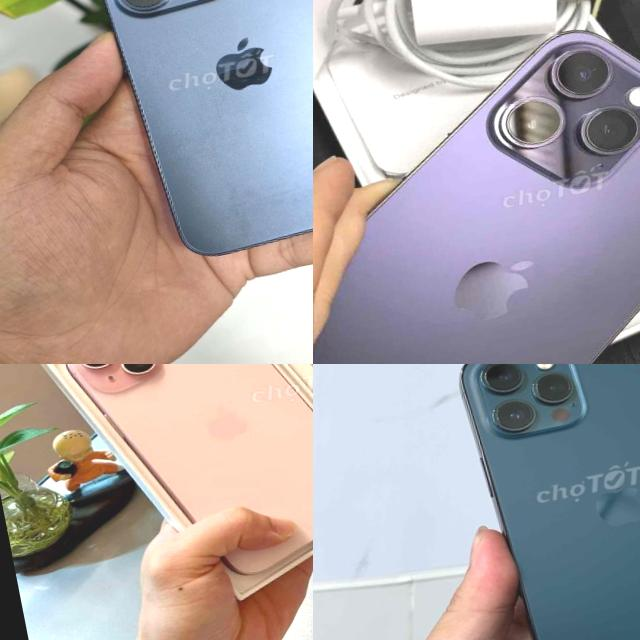gen_12_13: (45, 364, 313, 598), (444, 364, 640, 640)
gen_14: (313, 0, 640, 364)
gen_15: (71, 0, 313, 286)
